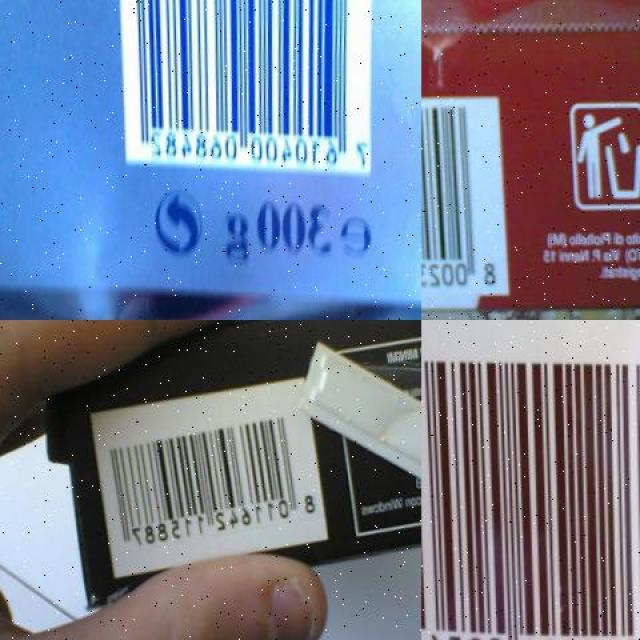Barcode: (421, 320, 640, 640), (87, 363, 326, 582), (115, 0, 373, 168), (421, 83, 507, 301)
